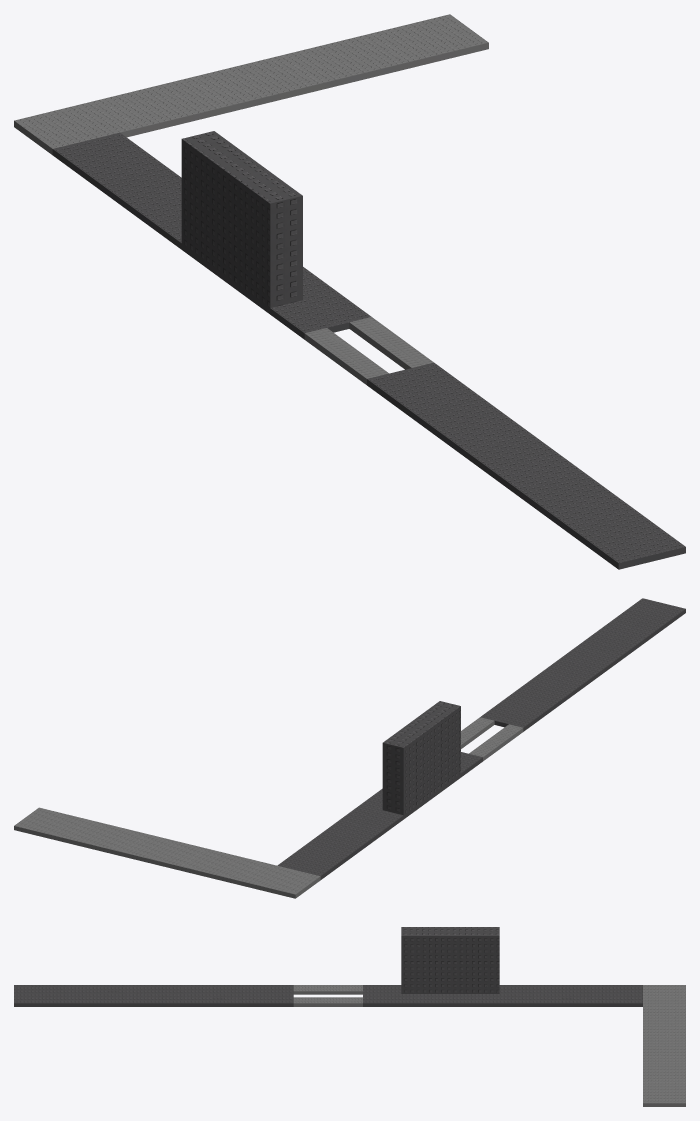
File: level1.fbx
The picture shows the model from 3 angles, top to bottom: view 1: azimuth 30°, elevation 25°; view 2: azimuth 150°, elevation 25°; view 3: azimuth 270°, elevation 25°; orthographic projection. The views are drawn at different scales.
Parts seen in each view (by area): view 1: Cube.003, Cube, Cube.004, Cube.002, Cube.001; view 2: Cube.003, Cube, Cube.004, Cube.002, Cube.001; view 3: Cube.004, Cube, Cube.002, Cube.003, Cube.001.
Boxes of the visible parts, x1,y1,x2,y2 form: Cube.003: (14,14,488,154); Cube: (367,362,685,569); Cube.004: (181,131,302,307); Cube.002: (52,132,371,339); Cube.001: (304,317,433,384); Cube.003: (14,807,320,898); Cube: (480,598,685,731); Cube.004: (382,701,460,815); Cube.002: (277,752,482,879); Cube.001: (461,717,523,761); Cube.004: (401,927,499,993); Cube: (14,985,293,1006); Cube.002: (363,985,642,1006); Cube.003: (643,985,685,1106); Cube.001: (293,985,362,1006).
Size of the model in its own units: 1297 by 315 by 3115.
Materials: 2 (2 with a texture image).
